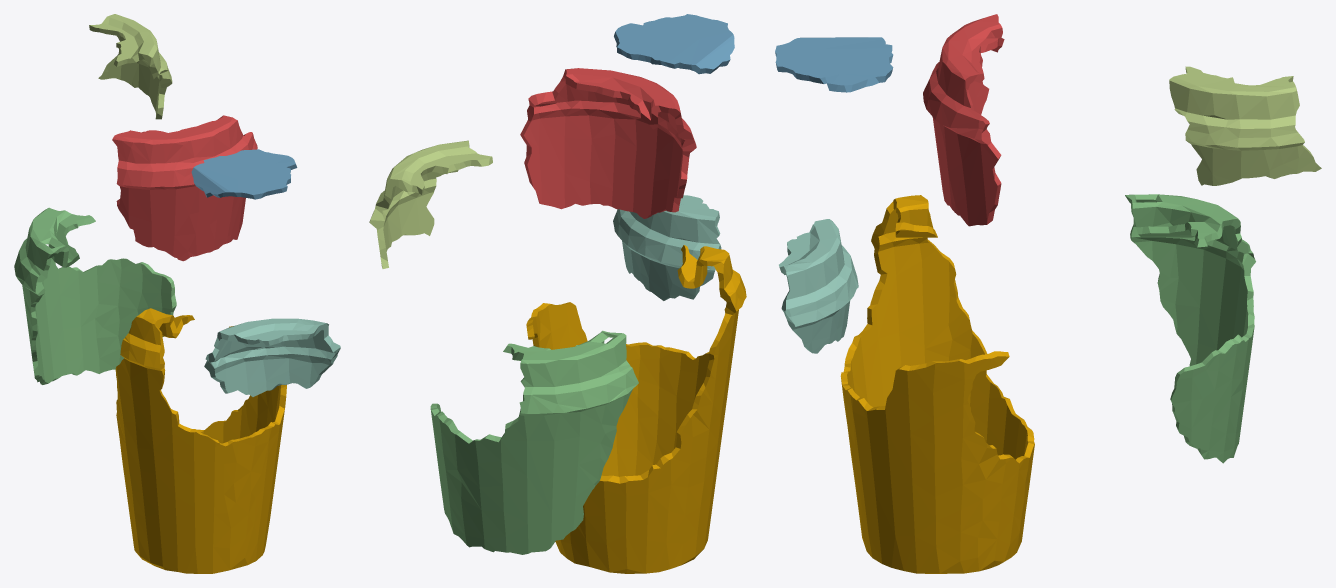
File: mode_12_6pcs_transformed.glb
3 views of the same model, side by side, from view 1: azimuth 30°, elevation 25°; view 2: azimuth 150°, elevation 25°; view 3: azimuth 270°, elevation 25° (orthographic). The views are drawn at different scales.
Visible parts, largest first — view 1: piece_0.obj, piece_3.obj, piece_1.obj, piece_4.obj, piece_2.obj, piece_5.obj; view 2: piece_0.obj, piece_3.obj, piece_1.obj, piece_4.obj, piece_5.obj, piece_2.obj; view 3: piece_0.obj, piece_3.obj, piece_5.obj, piece_1.obj, piece_4.obj, piece_2.obj.
Boxes of the visible parts, x1,y1,x2,y2 form: piece_0.obj: (115, 308, 286, 573); piece_3.obj: (14, 207, 176, 384); piece_1.obj: (112, 115, 257, 261); piece_4.obj: (204, 318, 340, 396); piece_2.obj: (191, 149, 297, 199); piece_5.obj: (89, 14, 172, 119); piece_0.obj: (526, 245, 746, 573); piece_3.obj: (430, 330, 638, 554); piece_1.obj: (520, 68, 696, 218); piece_4.obj: (613, 195, 721, 300); piece_5.obj: (369, 140, 492, 268); piece_2.obj: (614, 14, 734, 74); piece_0.obj: (840, 195, 1034, 573); piece_3.obj: (1125, 194, 1255, 463); piece_5.obj: (1169, 66, 1321, 185); piece_1.obj: (923, 14, 1004, 226); piece_4.obj: (779, 219, 858, 353); piece_2.obj: (775, 37, 893, 92).
Size of the model in its own units: 0.7103 by 1.6 by 1.61.
